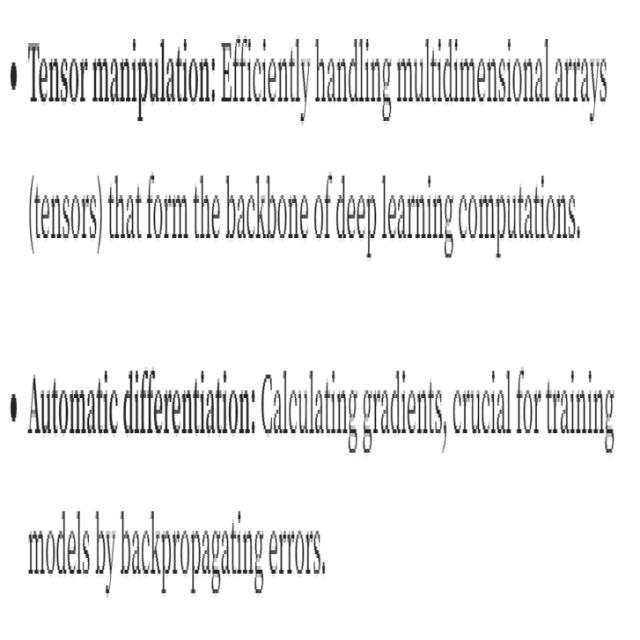word: (116, 489, 269, 600), (394, 23, 554, 123), (90, 27, 220, 136), (121, 353, 260, 454), (457, 162, 588, 261), (26, 144, 107, 279), (258, 355, 360, 458), (217, 21, 313, 128), (221, 158, 312, 267), (360, 351, 450, 460), (26, 355, 119, 456), (312, 23, 394, 134), (378, 160, 456, 269), (543, 360, 616, 460), (450, 347, 514, 460), (267, 493, 327, 608), (551, 23, 614, 132), (25, 491, 92, 591), (25, 27, 90, 113), (143, 160, 192, 251), (336, 168, 379, 257), (105, 160, 142, 257), (93, 493, 119, 616), (515, 355, 543, 460), (192, 168, 223, 259), (310, 162, 334, 253), (5, 37, 24, 115), (6, 366, 22, 444)
